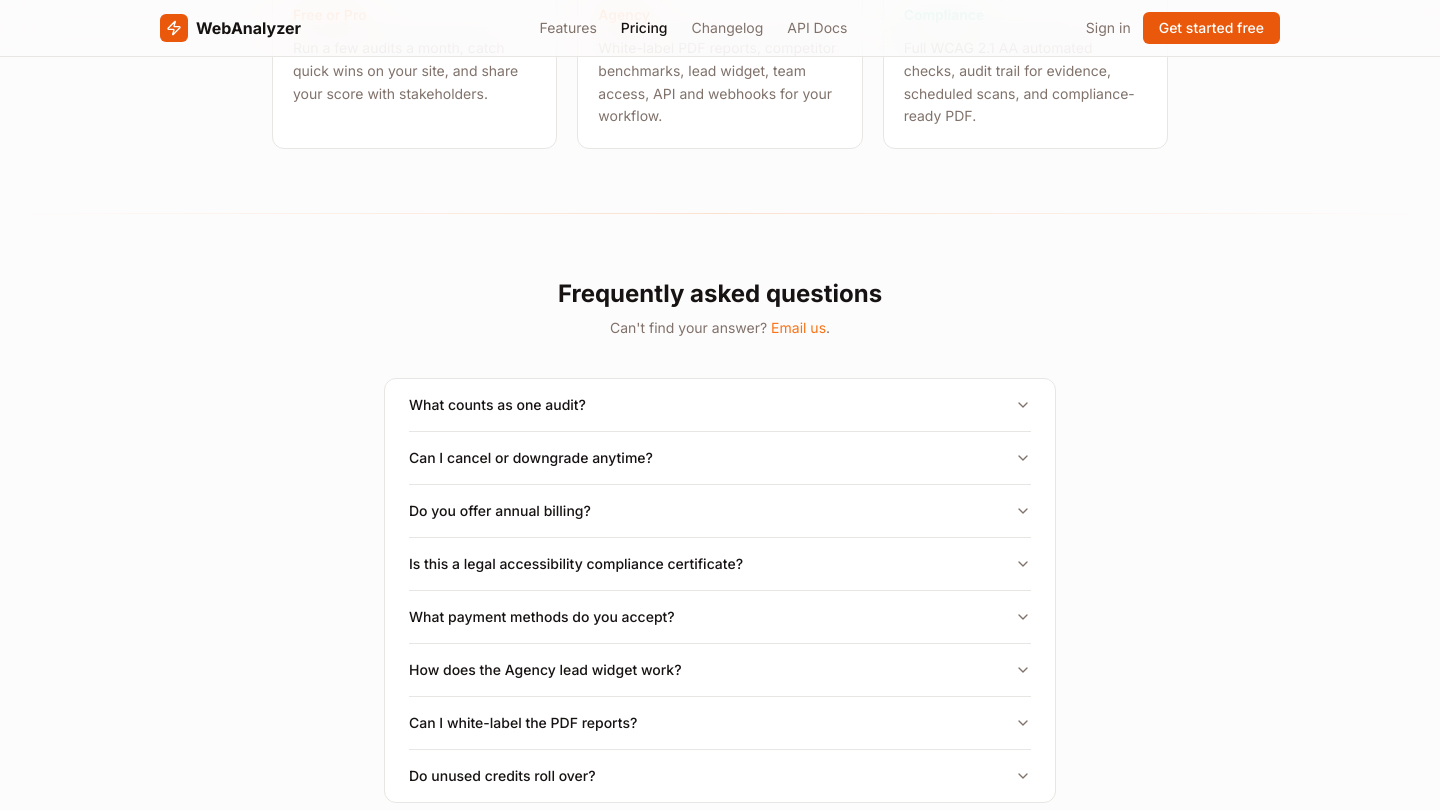
Test: PricingPage component › FAQ item expands when clicked
(page scrolled)
Click the button "What counts as one audit?" at (497, 404), box 409,379 -> 1031,431
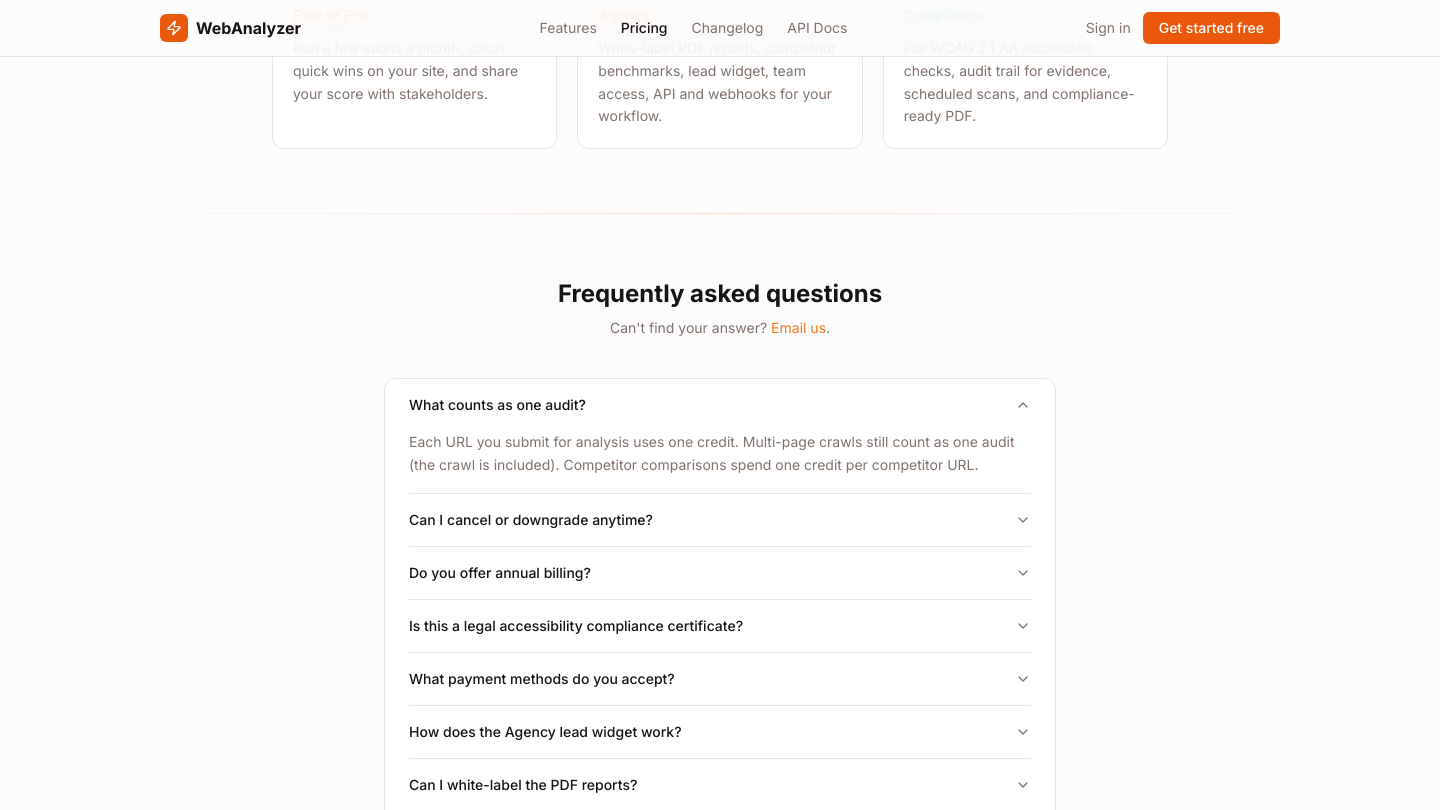
Now the text "Each URL you submit" is shown, box 409,433 -> 1014,473
